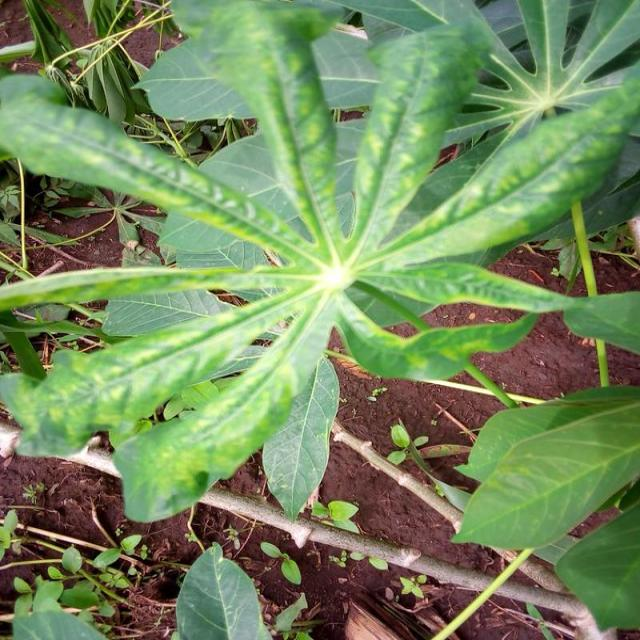cassava leaf: (2, 0, 640, 532), (450, 383, 640, 551), (262, 351, 342, 523), (175, 541, 271, 639)
